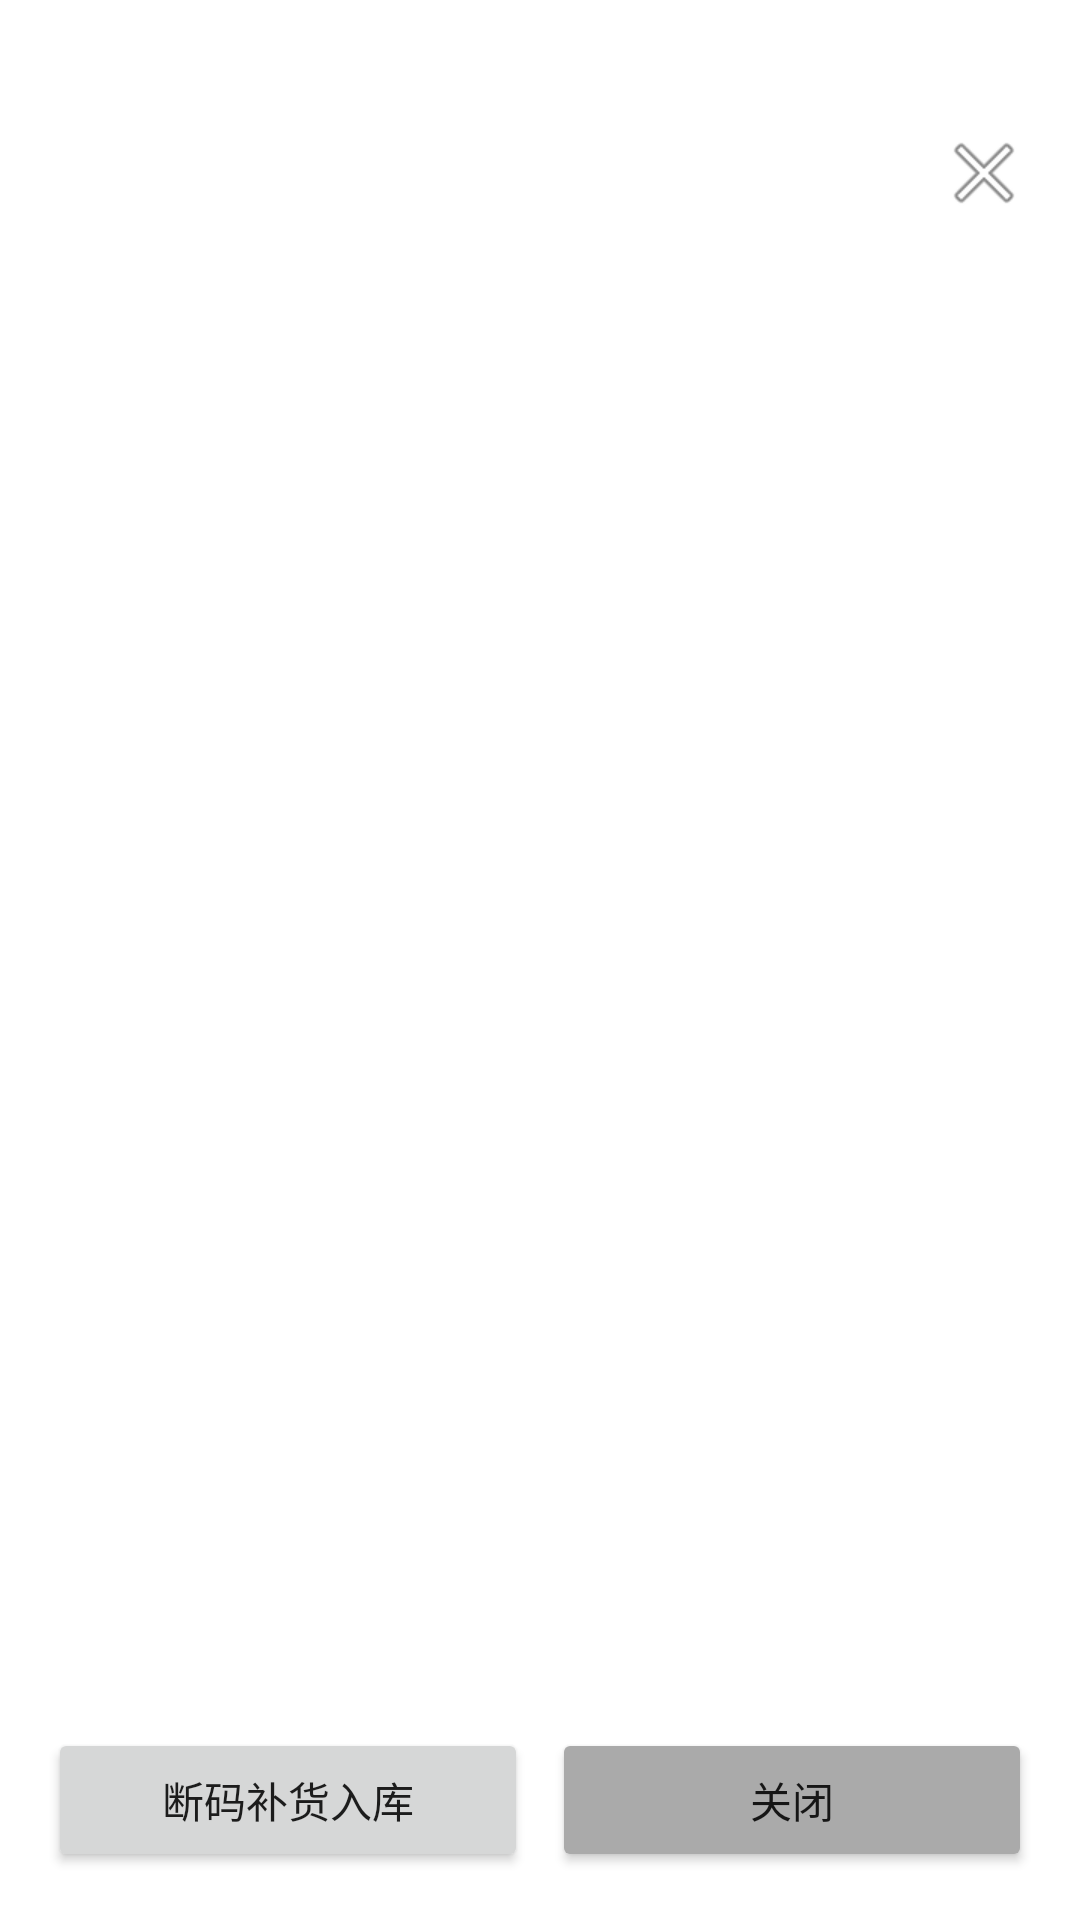

Point at icon controls on the screen. Image size 1080w x 1920h, points as [x,y].
close clear cancel: [984,173]
